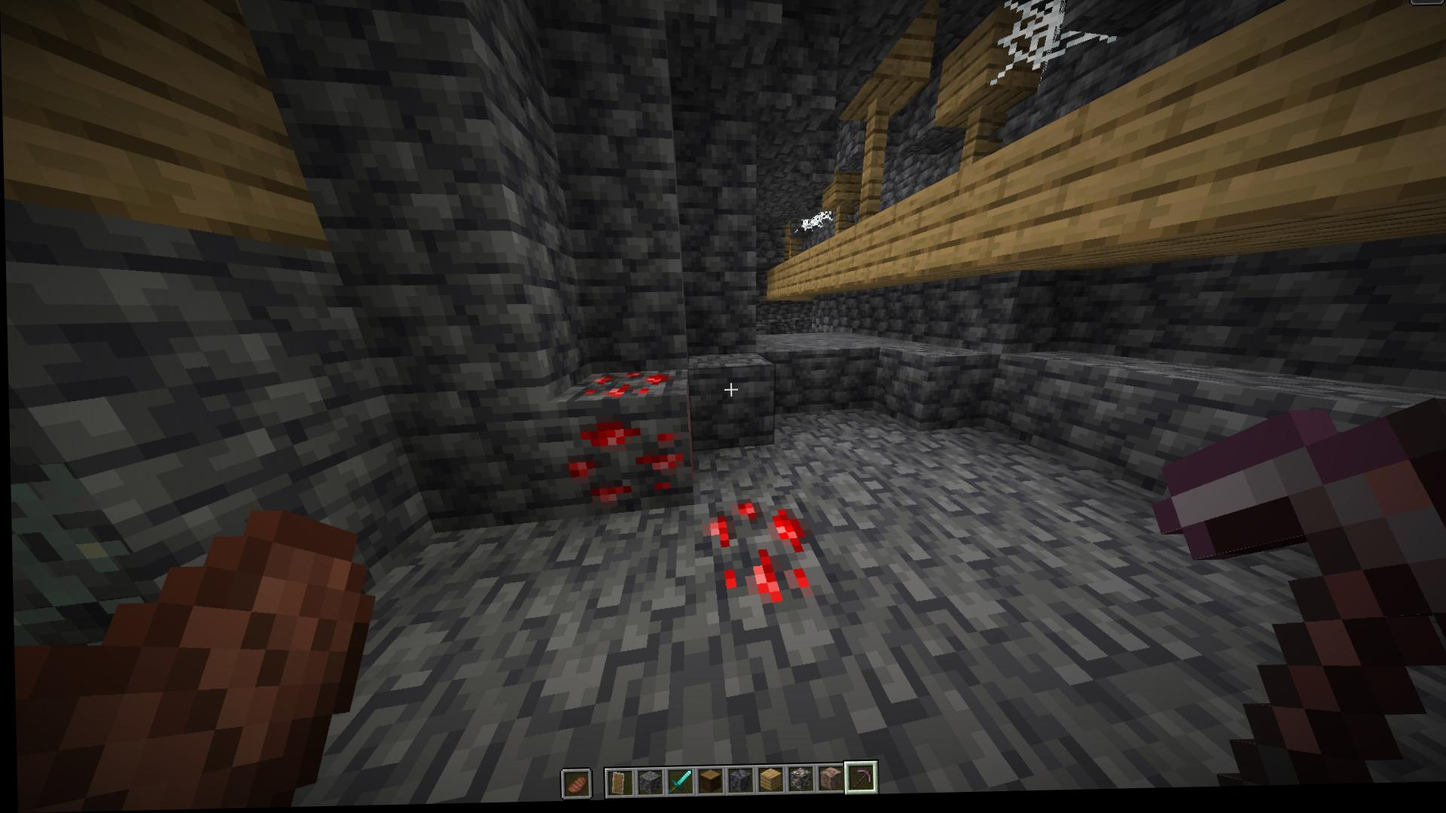redstone ore: (706, 501, 820, 608), (568, 411, 686, 504), (581, 370, 673, 404)
